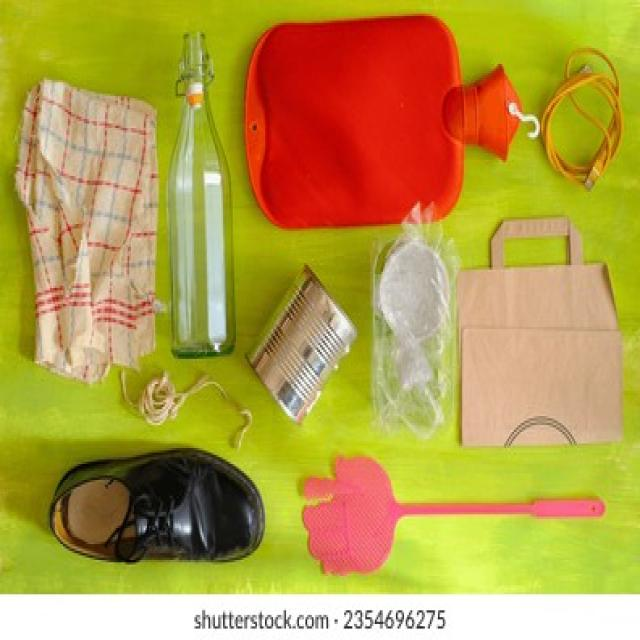glass: (167, 105, 234, 354)
metal: (262, 290, 342, 416)
paper: (453, 270, 619, 443)
